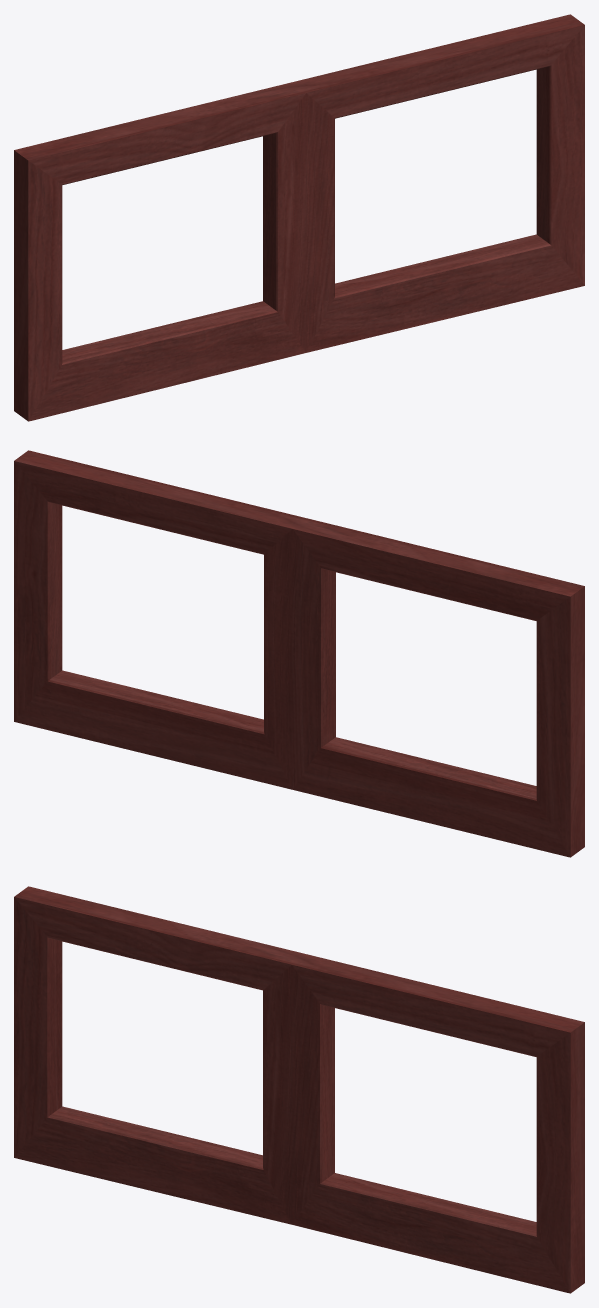
File: SM_GJJ_2F_Windowframe01B.fbx
3 renders of one model, top to bottom at view 1: azimuth 30°, elevation 25°; view 2: azimuth 150°, elevation 25°; view 3: azimuth 330°, elevation 25°, orthographic.
Visible parts, largest first — view 1: SM_GJJ_2F_Windowframe01B; view 2: SM_GJJ_2F_Windowframe01B; view 3: SM_GJJ_2F_Windowframe01B.
Boxes of the visible parts, bbox=[...] form: SM_GJJ_2F_Windowframe01B: bbox=[14, 14, 584, 421]; SM_GJJ_2F_Windowframe01B: bbox=[14, 450, 584, 857]; SM_GJJ_2F_Windowframe01B: bbox=[14, 886, 584, 1293].
Bounding box in the file's own units: 101 × 4.53 × 45.11.
1 material, 1 textured.
